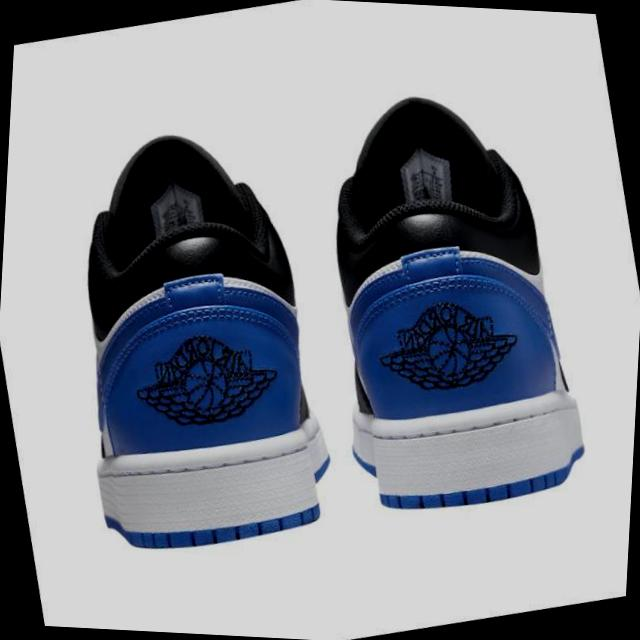nike_original_jordan: (21, 103, 362, 572), (274, 64, 612, 535)
